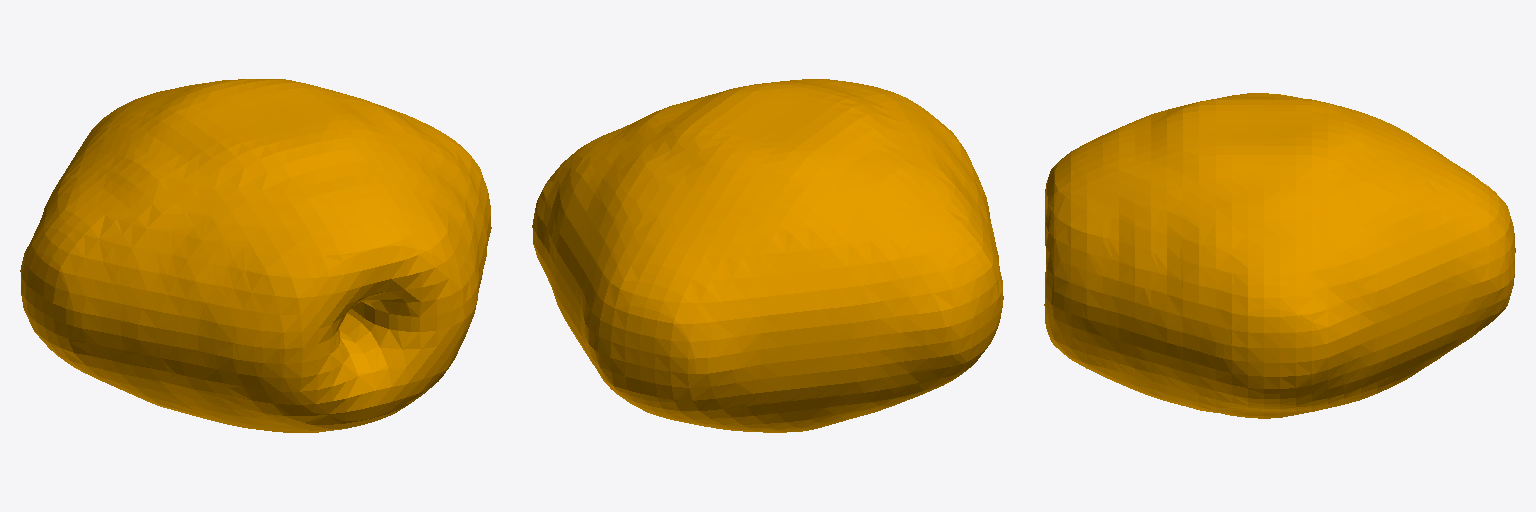
The robot description file, URDF, robot "C1":
<?xml version="1.0"?>
<robot name="C1">
  <link name="base_link">
    <visual>
      <geometry>
        <mesh filename="../../../../meshes/egad/eval/C1.obj" />
      </geometry>
    </visual>
  </link>
</robot>

--- What the picture shows (computed from the rendered views, not written in the file) ---
3 views of the same robot in one strip: view 1: azimuth 30°, elevation 25°; view 2: azimuth 150°, elevation 25°; view 3: azimuth 270°, elevation 25° (orthographic).
Model C1 with 1 links and 0 joints (none), rooted at base_link, posed every joint at zero.
Links seen in each view (by area): view 1: base_link; view 2: base_link; view 3: base_link.
Link boxes in pixels (x1,y1,x2,y2): base_link: (20,79,491,432); base_link: (532,79,1003,432); base_link: (1044,93,1515,418).
Size in the robot's own frame: 0.0808 by 0.0805 by 0.0495 metres.
1 mesh visuals loaded from 1 distinct referenced files (1 OBJ).